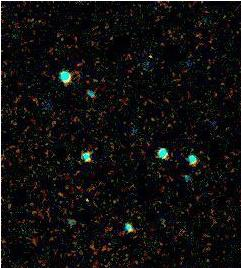star: (69, 182, 99, 212)
